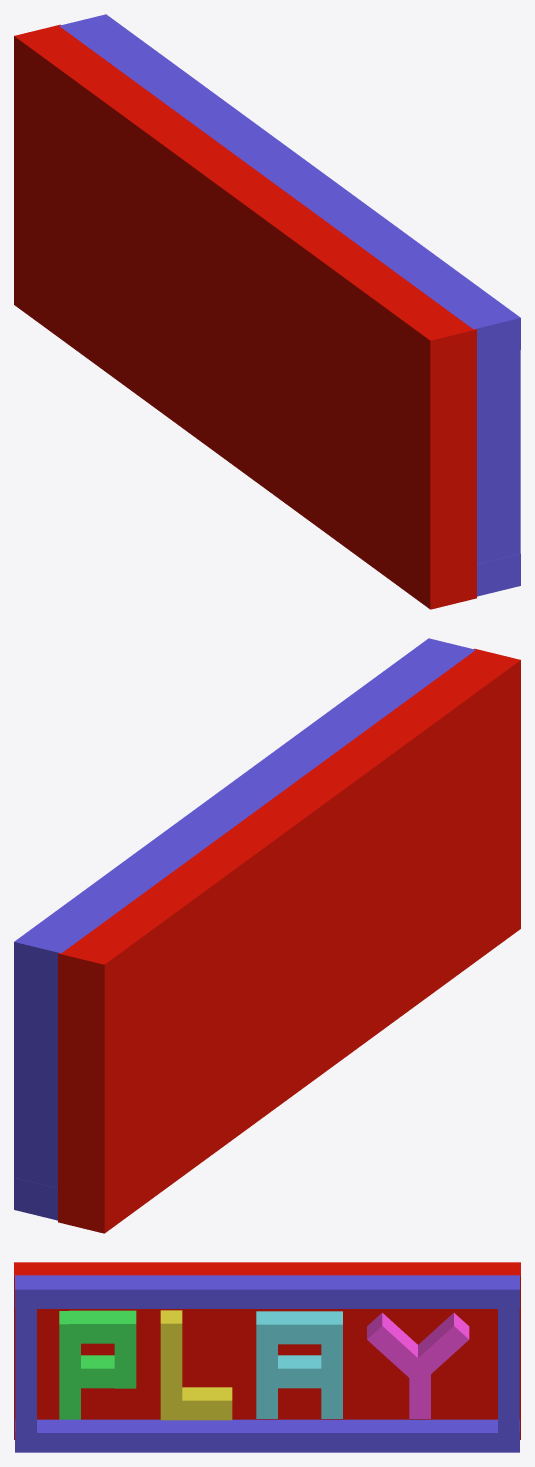
Rendered from playButton.gltf.
The picture shows the model from 3 angles, top to bottom: view 1: azimuth 30°, elevation 25°; view 2: azimuth 150°, elevation 25°; view 3: azimuth 270°, elevation 25°; orthographic projection. The views are drawn at different scales.
Visible parts, largest first — view 1: Cube; view 2: Cube; view 3: Cube.
Part boxes in pixels (x1=…): Cube: x1=14, y1=14, x2=520, y2=609; Cube: x1=14, y1=638, x2=520, y2=1233; Cube: x1=14, y1=1262, x2=520, y2=1452.
Bounding box in the file's own units: 2.14 × 6.02 × 16.91.
